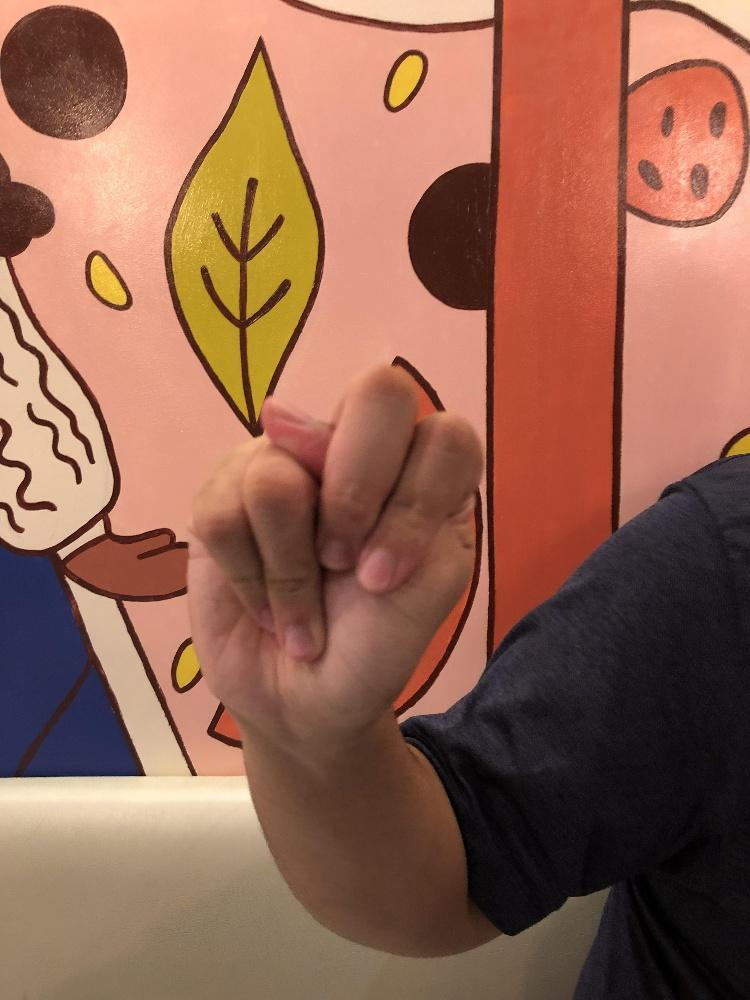n: (186, 363, 482, 735)
